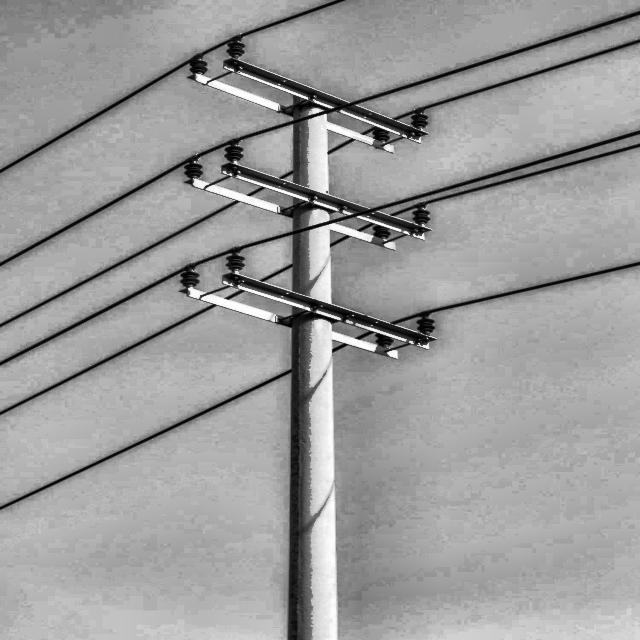poles: (173, 39, 458, 636)
